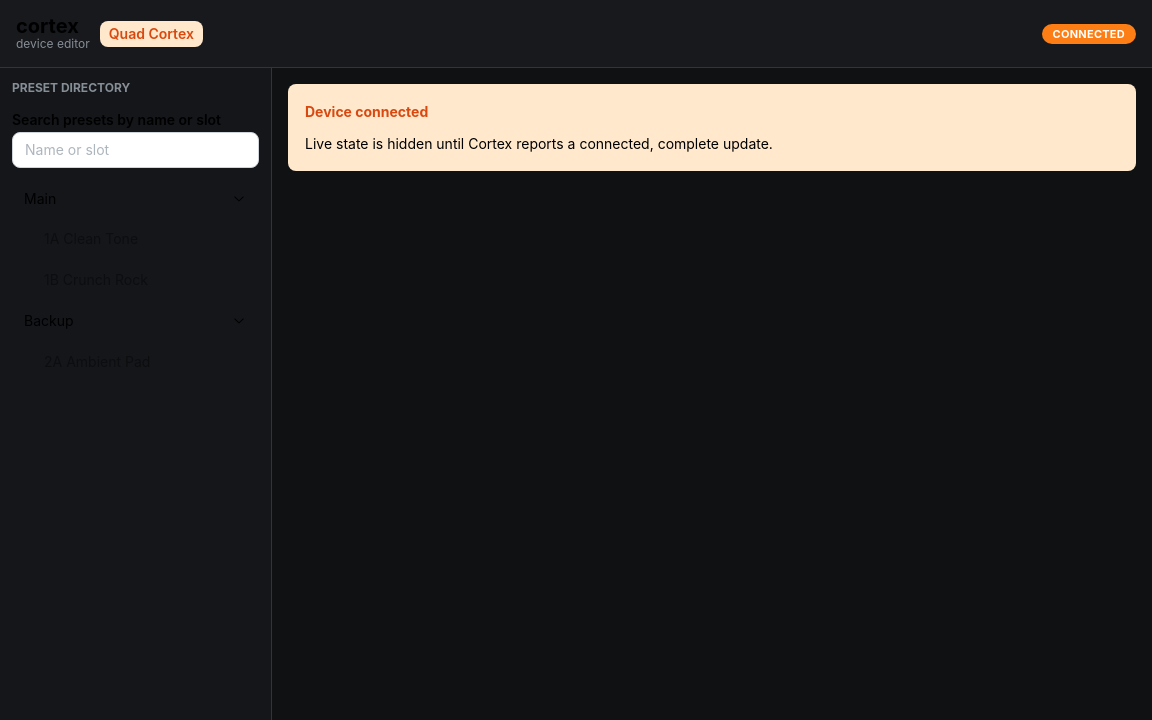
preset directory search › filters by displayed slot
In the search field labelled "Search presets by name or slot": (136,150) x1=12 y1=132 x2=259 y2=168, type "2a"
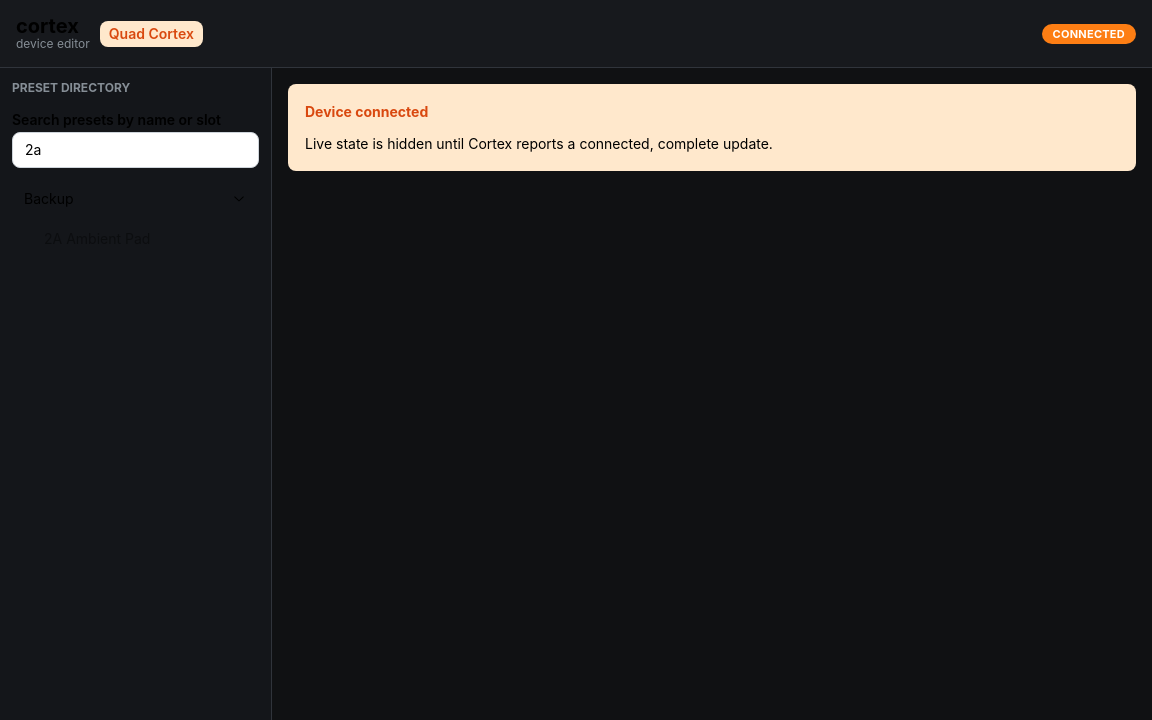
Expected: the button "1A Clean Tone" is not shown
Result: the button "Main" is gone
